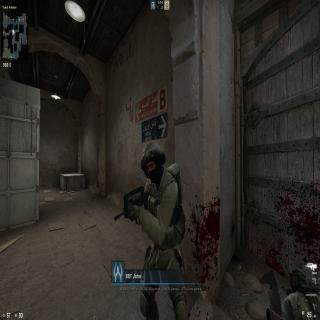CT-Head: (140, 138, 168, 186)
